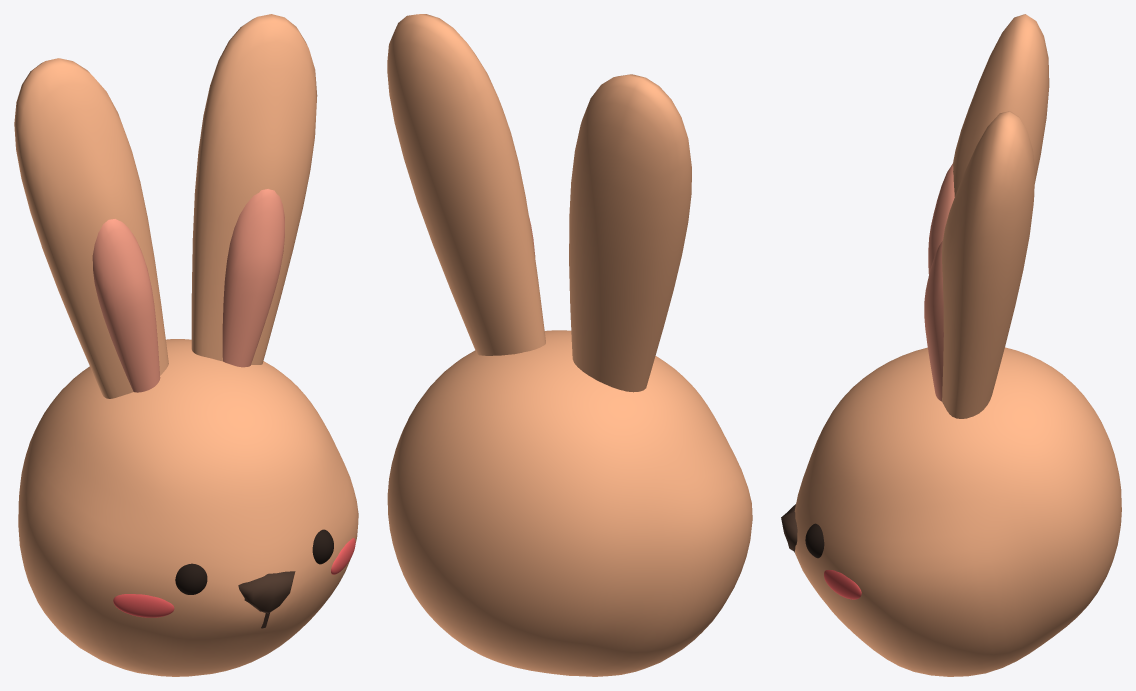
Rendered from bunny.obj.
The picture shows the model from 3 angles, left to right: view 1: azimuth 30°, elevation 25°; view 2: azimuth 150°, elevation 25°; view 3: azimuth 270°, elevation 25°; orthographic projection. The views are drawn at different scales.
Parts seen in each view (by area): view 1: head, pasted__pCube3, pCube3, pasted__pasted__pCube4, pasted__pCube4, pSphere1, NOSE, EYES; view 2: head, pasted__pCube3, pCube3; view 3: head, pasted__pCube3, pCube3, pasted__pasted__pCube4, pasted__pCube4, pSphere1, NOSE, EYES.
Boxes of the visible parts, left/top/right/bottom form: head: left=18, top=339, right=358, bottom=676; pasted__pCube3: left=191, top=14, right=317, bottom=364; pCube3: left=14, top=58, right=168, bottom=398; pasted__pasted__pCube4: left=222, top=189, right=284, bottom=367; pasted__pCube4: left=92, top=219, right=160, bottom=392; pSphere1: left=113, top=538, right=355, bottom=617; NOSE: left=238, top=571, right=295, bottom=613; EYES: left=175, top=529, right=333, bottom=594; head: left=387, top=330, right=752, bottom=676; pasted__pCube3: left=387, top=14, right=545, bottom=355; pCube3: left=569, top=74, right=691, bottom=392; head: left=794, top=347, right=1121, bottom=676; pasted__pCube3: left=941, top=111, right=1034, bottom=418; pCube3: left=953, top=14, right=1049, bottom=196; pasted__pasted__pCube4: left=924, top=241, right=943, bottom=401; pasted__pCube4: left=928, top=163, right=954, bottom=274; pSphere1: left=824, top=570, right=861, bottom=599; NOSE: left=781, top=504, right=797, bottom=551; EYES: left=805, top=523, right=824, bottom=558.
Bounding box in the file's own units: 2.25 × 4.24 × 2.22.
